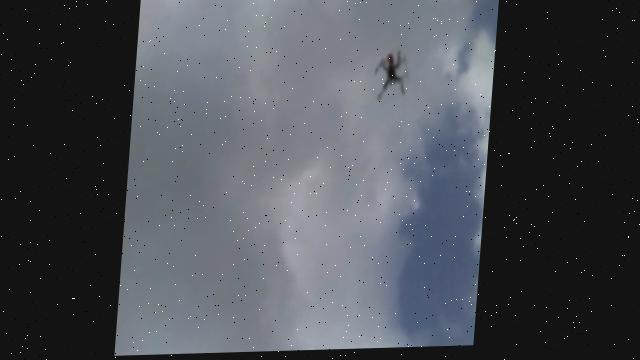drone: (368, 51, 409, 107)
